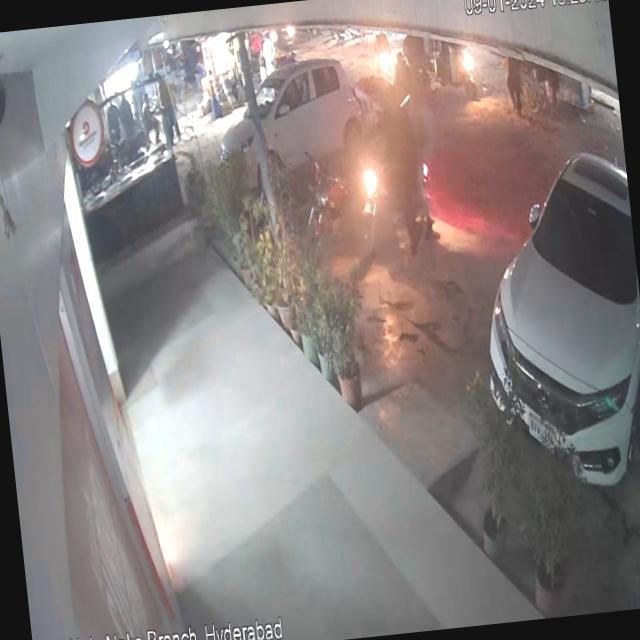Car: (464, 128, 640, 516), (212, 55, 388, 200)
Motorcycle: (287, 134, 372, 258)
